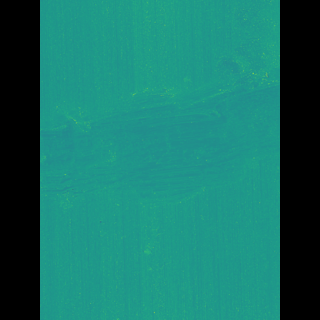Loch: (69, 57, 249, 210)
